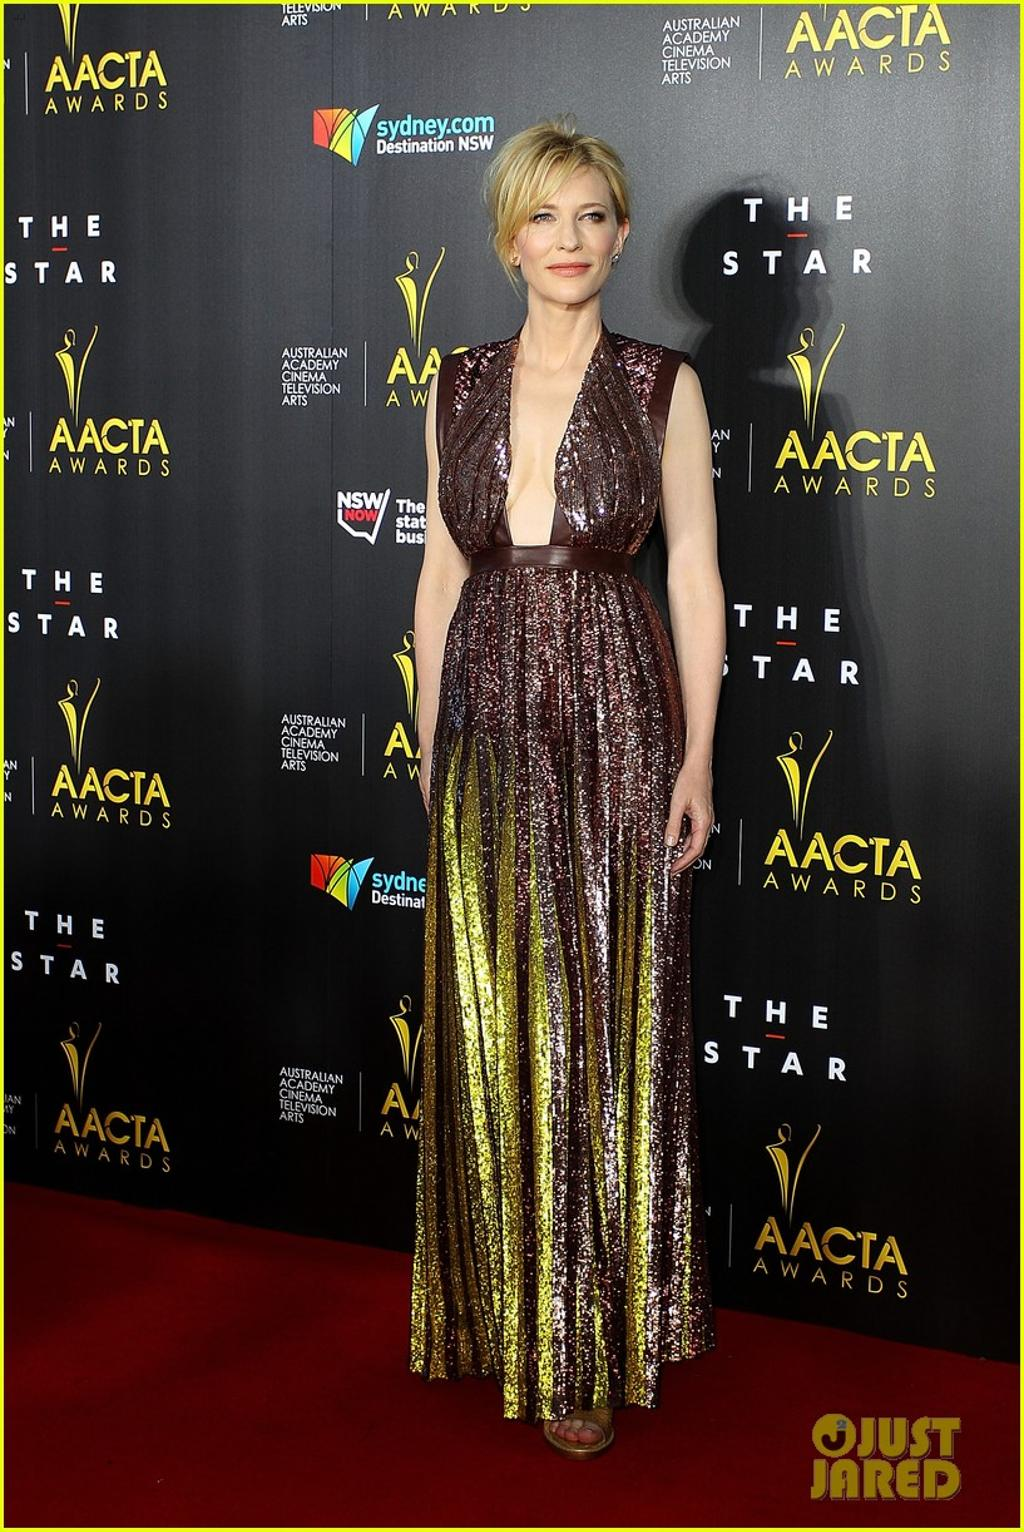face: (515, 165, 623, 303)
